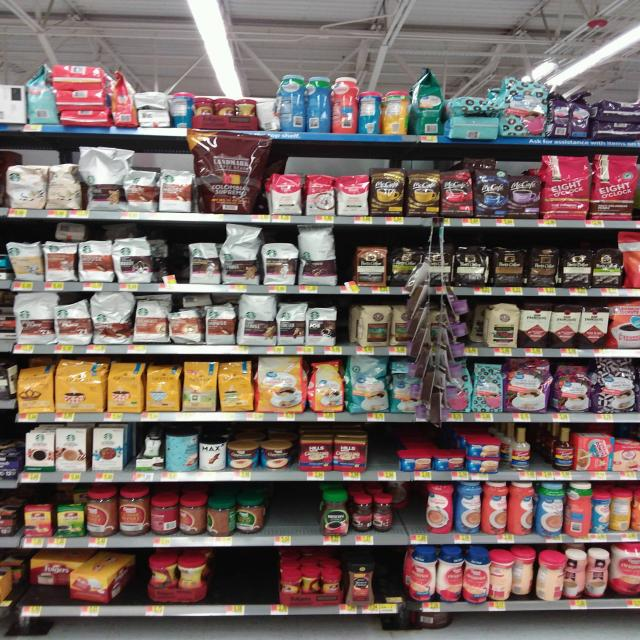void: (208, 546, 276, 624), (268, 482, 319, 544), (369, 423, 398, 482), (381, 552, 402, 619)
